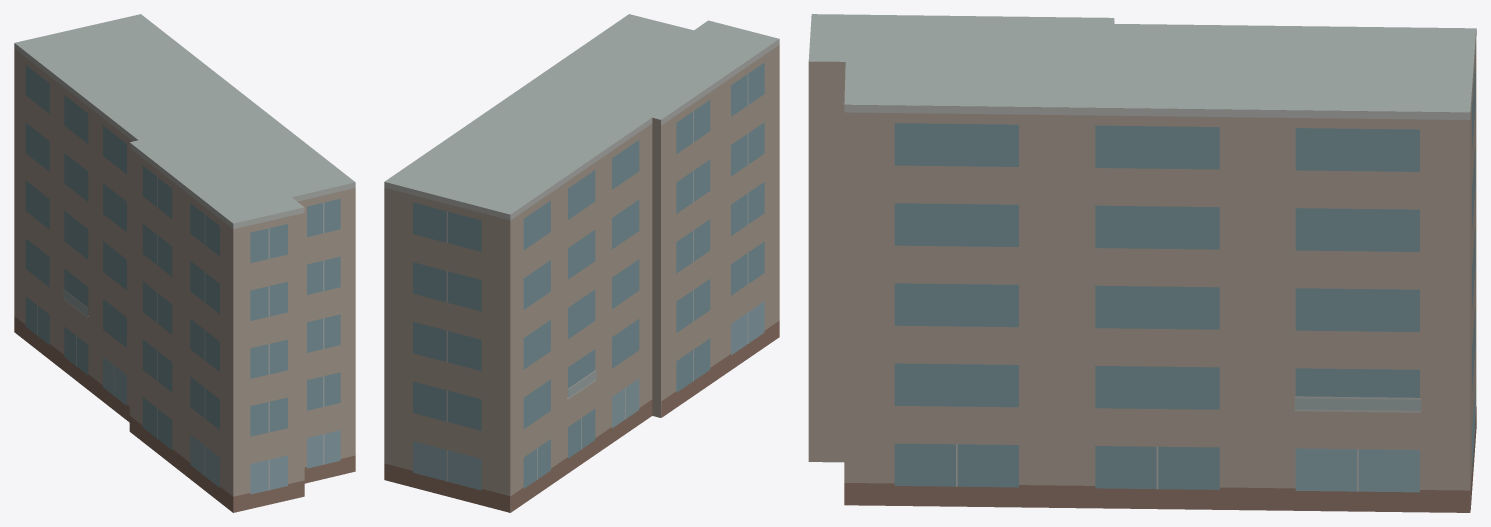
Rendered from survey-upis-32570178.glb.
3 renders of one model, left to right at view 1: azimuth 30°, elevation 25°; view 2: azimuth 150°, elevation 25°; view 3: azimuth 270°, elevation 25°, orthographic. The views are drawn at different scales.
Parts seen in each view (by area): view 1: survey-upis-32570178.tmp; view 2: survey-upis-32570178.tmp; view 3: survey-upis-32570178.tmp.
Part boxes in pixels (left/top/right/bottom): survey-upis-32570178.tmp: left=14, top=14, right=355, bottom=512; survey-upis-32570178.tmp: left=384, top=14, right=779, bottom=512; survey-upis-32570178.tmp: left=808, top=14, right=1476, bottom=512.
Bounding box in the file's own units: 6.67 × 12.65 × 19.12.
